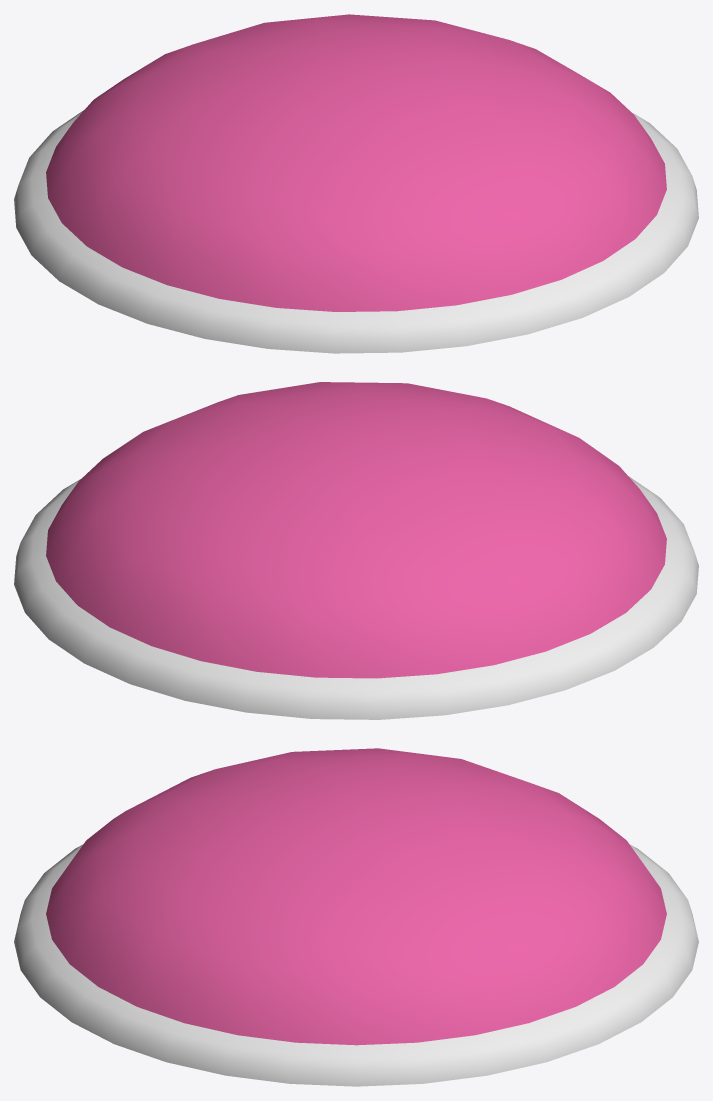
The model's file is SM+CeilingCircleLamp.fbx.
3 views of the same model, one above another, from view 1: azimuth 30°, elevation 25°; view 2: azimuth 150°, elevation 25°; view 3: azimuth 270°, elevation 25° (orthographic).
Visible parts, largest first — view 1: Sphere; view 2: Sphere; view 3: Sphere.
Boxes of the visible parts, left/top/right/bottom form: Sphere: left=14, top=14, right=698, bottom=353; Sphere: left=14, top=382, right=698, bottom=719; Sphere: left=14, top=748, right=698, bottom=1086.
Size of the model in its own units: 90.12 by 20.49 by 90.12.
